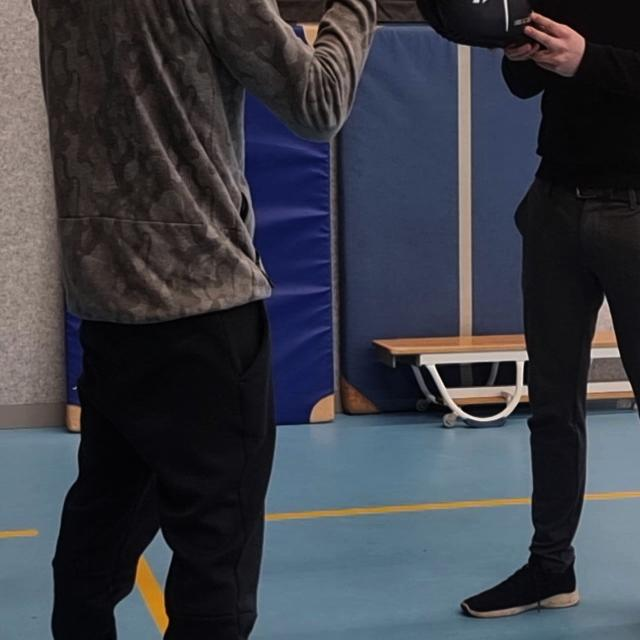paddle: (412, 0, 535, 49)
